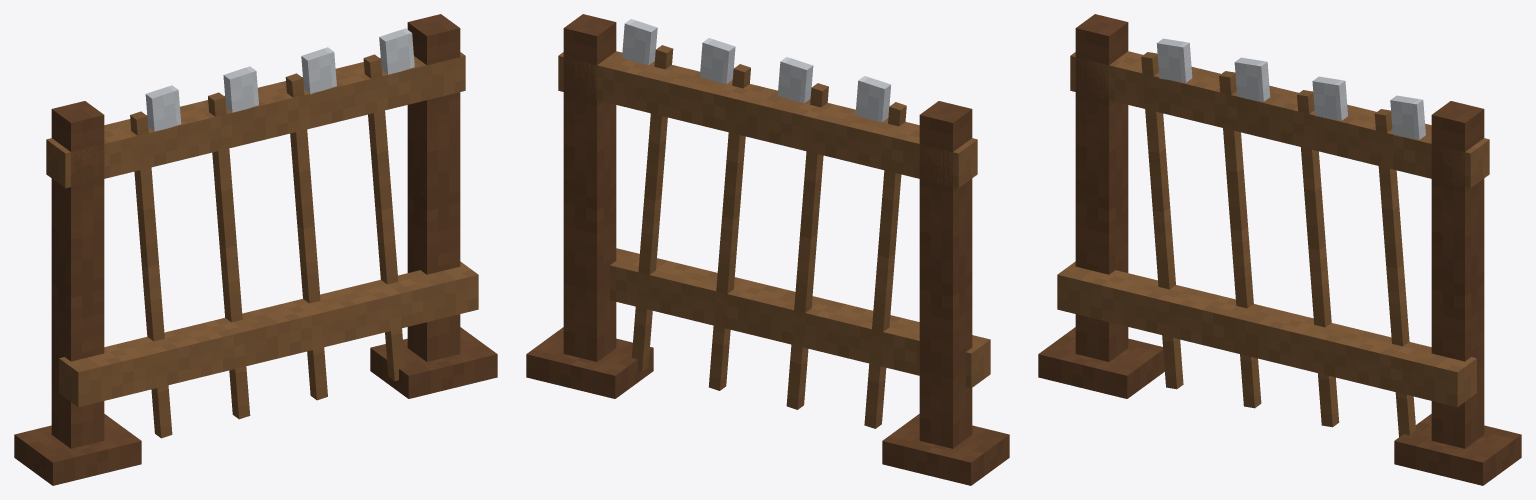
The model's file is weapon_rack.glb.
3 views of the same model, side by side, from view 1: azimuth 30°, elevation 25°; view 2: azimuth 150°, elevation 25°; view 3: azimuth 330°, elevation 25° (orthographic).
Visible parts, largest first — view 1: WeaponRack; view 2: WeaponRack; view 3: WeaponRack.
Part boxes in pixels (left/top/right/bottom): WeaponRack: left=14, top=14, right=497, bottom=485; WeaponRack: left=526, top=14, right=1009, bottom=485; WeaponRack: left=1038, top=14, right=1521, bottom=485.
Bounding box in the file's own units: 2 × 1.53 × 0.325.
Materials: 3 (3 with a texture image).
